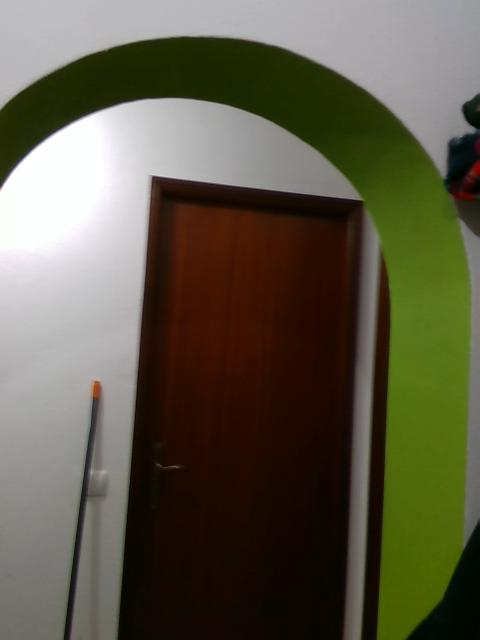door: (139, 195, 346, 626)
